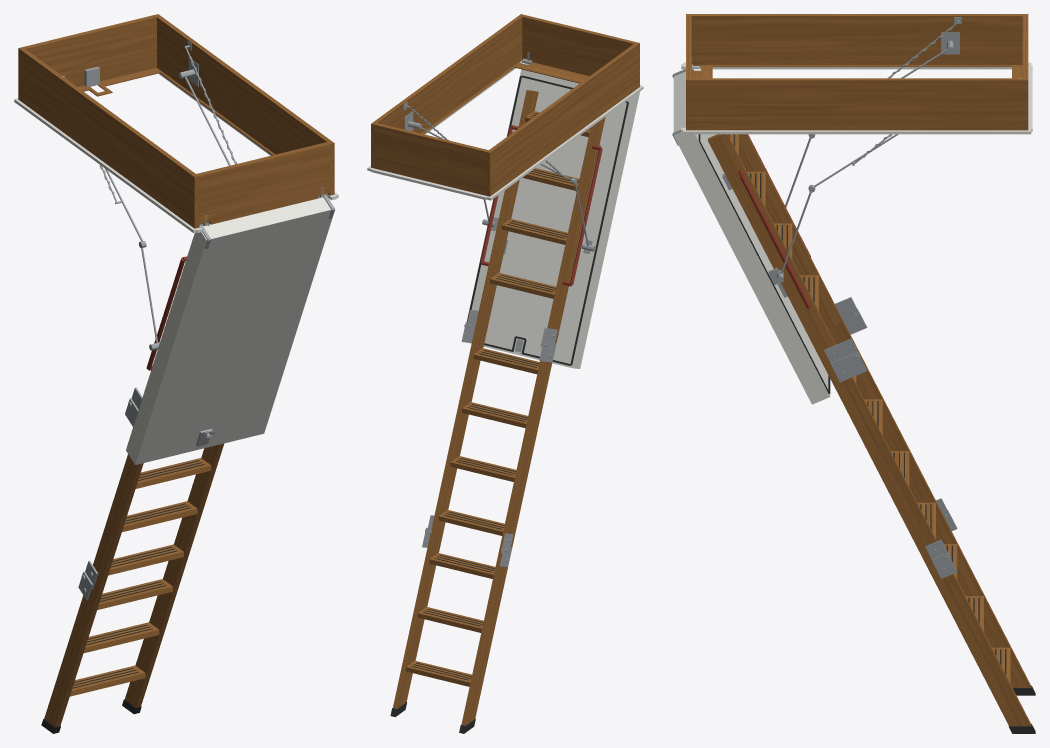
3 renders of one model, left to right at view 1: azimuth 30°, elevation 25°; view 2: azimuth 150°, elevation 25°; view 3: azimuth 270°, elevation 25°, orthographic. The views are drawn at different scales.
Visible parts, largest first — view 1: Complete insulated hatch, Frame side -1, Frame side 1, Frame hinge end upper, Frame far end, S2 complete rail -1, S1 complete rail -1, S2 complete rail 1, S1 complete rail 1, Lower trim side, S2 tread 1, S1 tread 1 (+5 smaller); view 2: Complete insulated hatch, Frame side -1, Frame side 1, Frame far end, Frame hinge end upper, S0 complete rail -1, S1 complete rail 1, S1 complete rail -1, S2 complete rail -1, S0 complete rail 1, S2 complete rail 1, S1 tread 3 (+14 smaller); view 3: Frame side 1, Frame side -1, Complete insulated hatch, S0 complete rail 1, S1 complete rail 1, S2 complete rail 1, S0 complete rail -1, S1 complete rail -1, S2 complete rail -1, Lower trim side.001, Lower trim side, Handrail grip.001 (+2 smaller).
Part boxes in pixels (box(x1,y1,x2,y2)): Complete insulated hatch: box(126, 197, 335, 464); Frame side -1: box(18, 47, 198, 228); Frame side 1: box(154, 14, 334, 195); Frame hinge end upper: box(196, 142, 330, 224); Frame far end: box(23, 15, 156, 86); S2 complete rail -1: box(44, 587, 102, 727); S1 complete rail -1: box(93, 454, 143, 592); S2 complete rail 1: box(124, 560, 183, 707); S1 complete rail 1: box(171, 443, 224, 572); Lower trim side: box(14, 98, 201, 233); S2 tread 1: box(83, 622, 159, 653); S1 tread 1: box(135, 458, 211, 488); Complete insulated hatch: box(466, 63, 640, 368); Frame side -1: box(486, 42, 639, 196); Frame side 1: box(371, 14, 523, 168); Frame far end: box(374, 123, 488, 195); Frame hinge end upper: box(522, 15, 635, 74); S0 complete rail -1: box(547, 117, 605, 342); S1 complete rail 1: box(431, 327, 487, 533); S1 complete rail -1: box(499, 361, 552, 548); S2 complete rail -1: box(461, 548, 507, 725); S0 complete rail 1: box(475, 90, 538, 328); S2 complete rail 1: box(393, 532, 442, 708); S1 tread 3: box(438, 509, 504, 535); Frame side 1: box(686, 78, 1028, 130); Frame side -1: box(686, 14, 1028, 65); Complete insulated hatch: box(673, 71, 830, 404); S0 complete rail 1: box(708, 134, 835, 367); S1 complete rail 1: box(825, 365, 936, 564); S2 complete rail 1: box(926, 562, 1031, 726); S0 complete rail -1: box(739, 134, 842, 328); S1 complete rail -1: box(828, 320, 944, 522); S2 complete rail -1: box(936, 517, 1031, 687); Lower trim side.001: box(683, 127, 1031, 134); Lower trim side: box(683, 62, 1031, 69); Handrail grip.001: box(740, 175, 810, 307).
Bounding box in the file's own units: 0.6463 × 2.92 × 1.44.
Materials: 40 (36 with a texture image).
